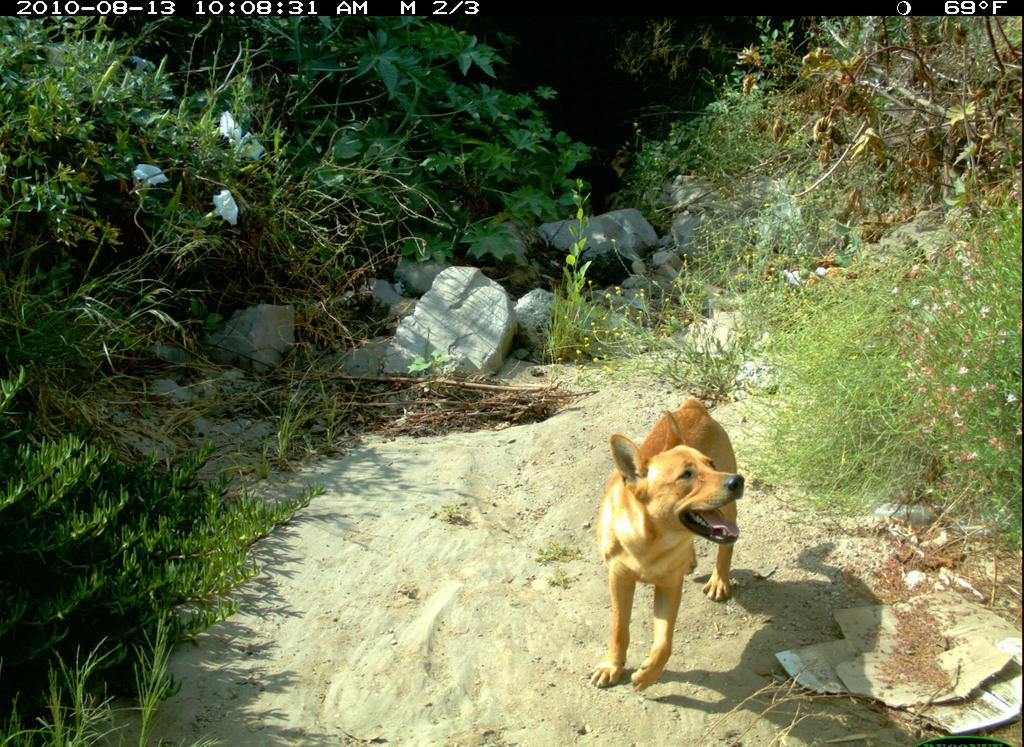dog: (591, 387, 760, 698)
